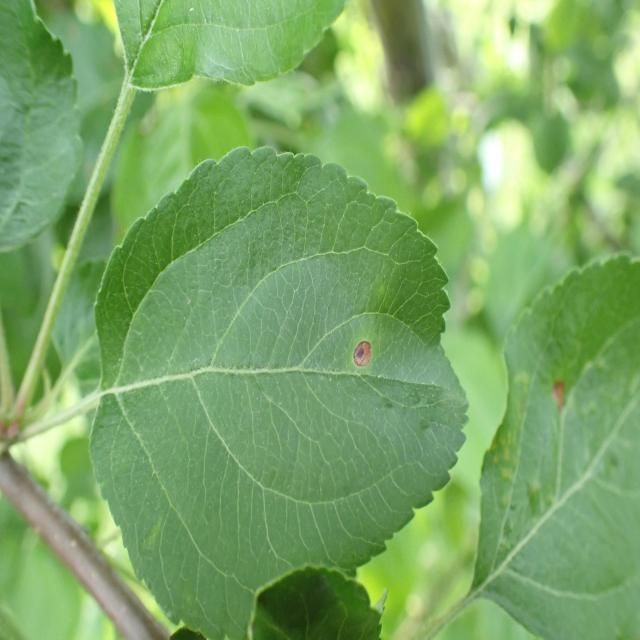Black Rot: (344, 325, 386, 388), (544, 372, 570, 428)
